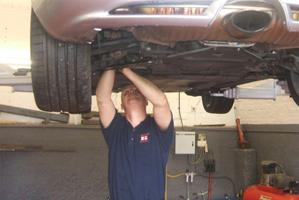person: (95, 62, 176, 200)
